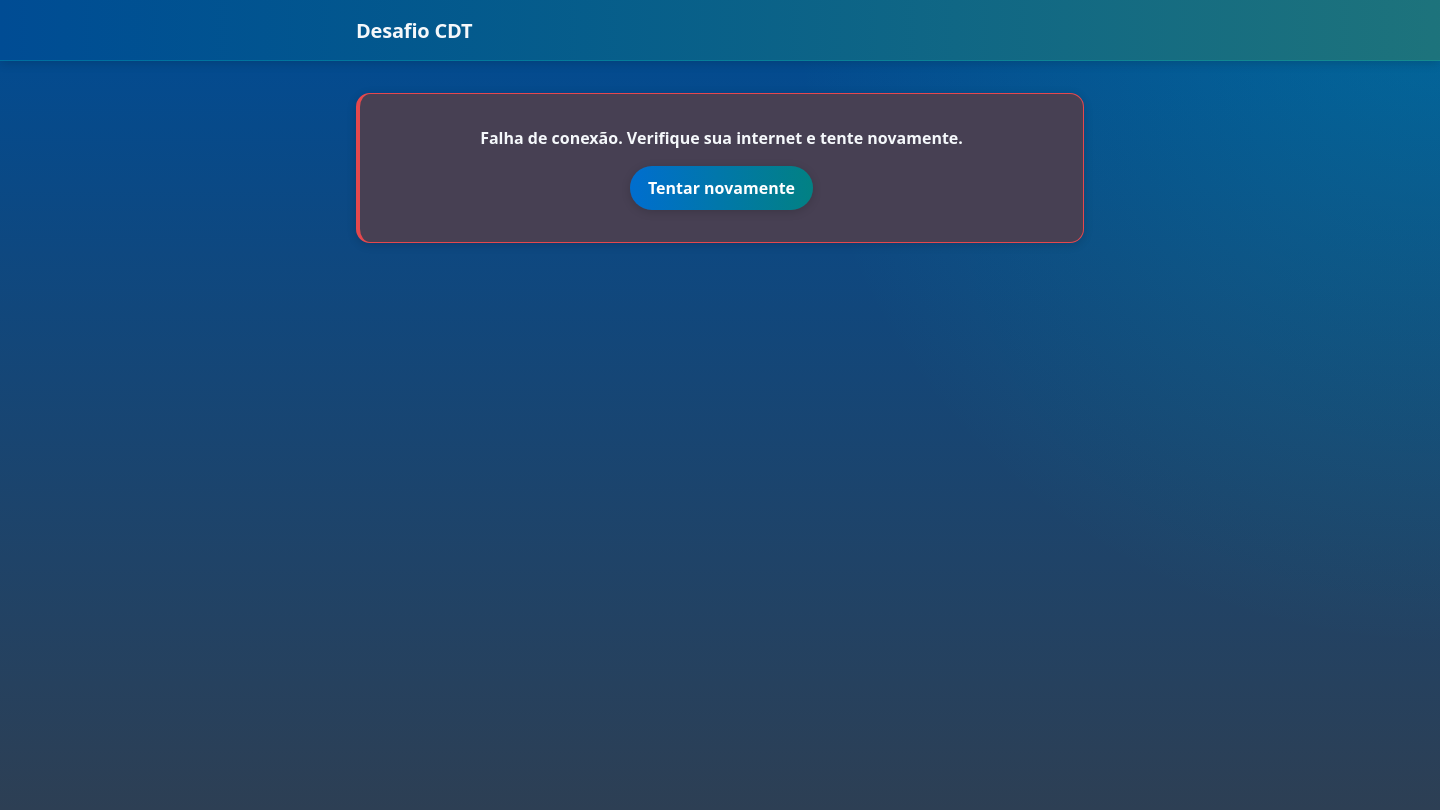
it: App › botão "Tentar novamente" › mostra o erro de novo quando a nova tentativa também falha
The width and height of the screenshot is (1440, 810).
Click the button "Tentar novamente": (722, 188) [630,166,813,210]
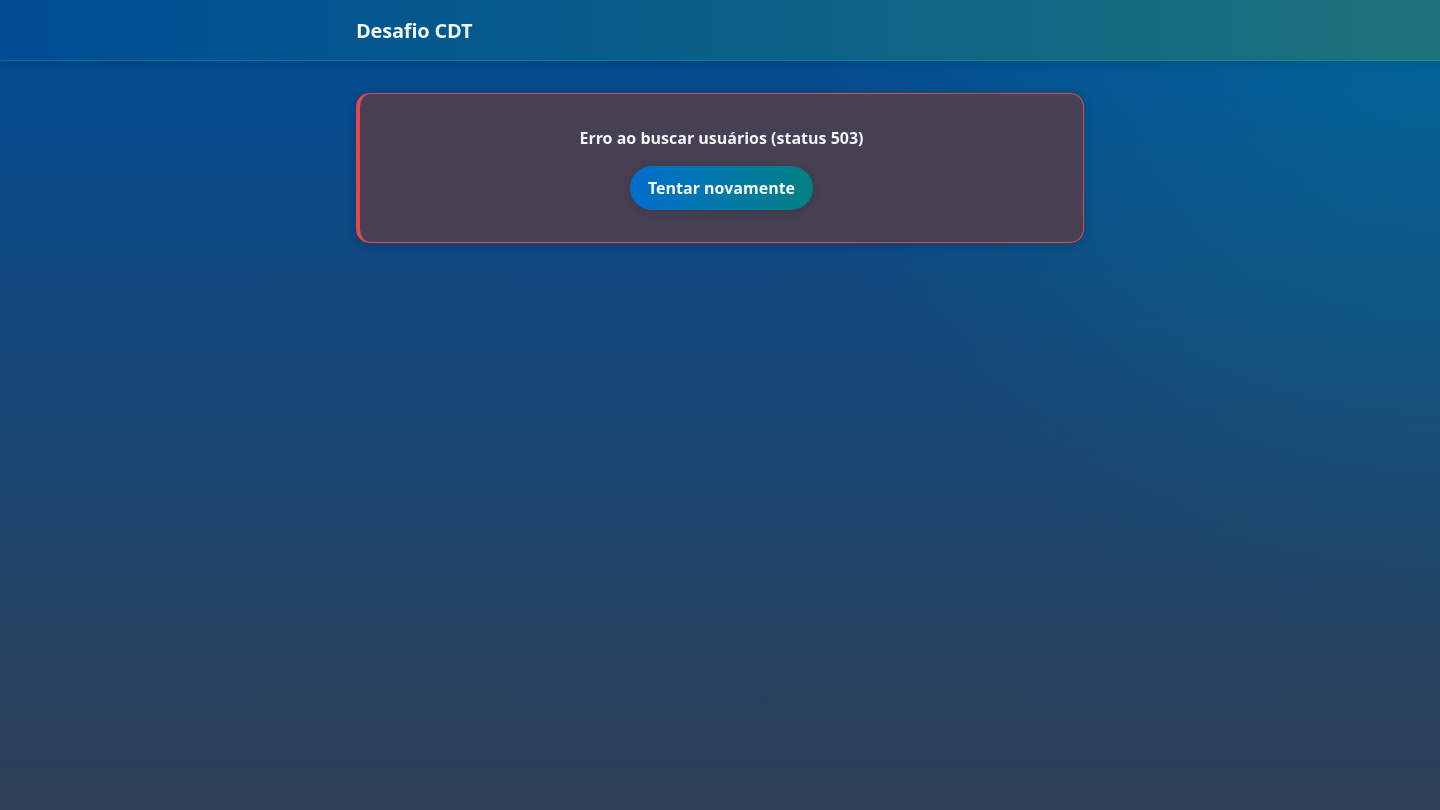
Expected: the message reads "Erro ao buscar usuários (status 503)", [579,127,864,149]
